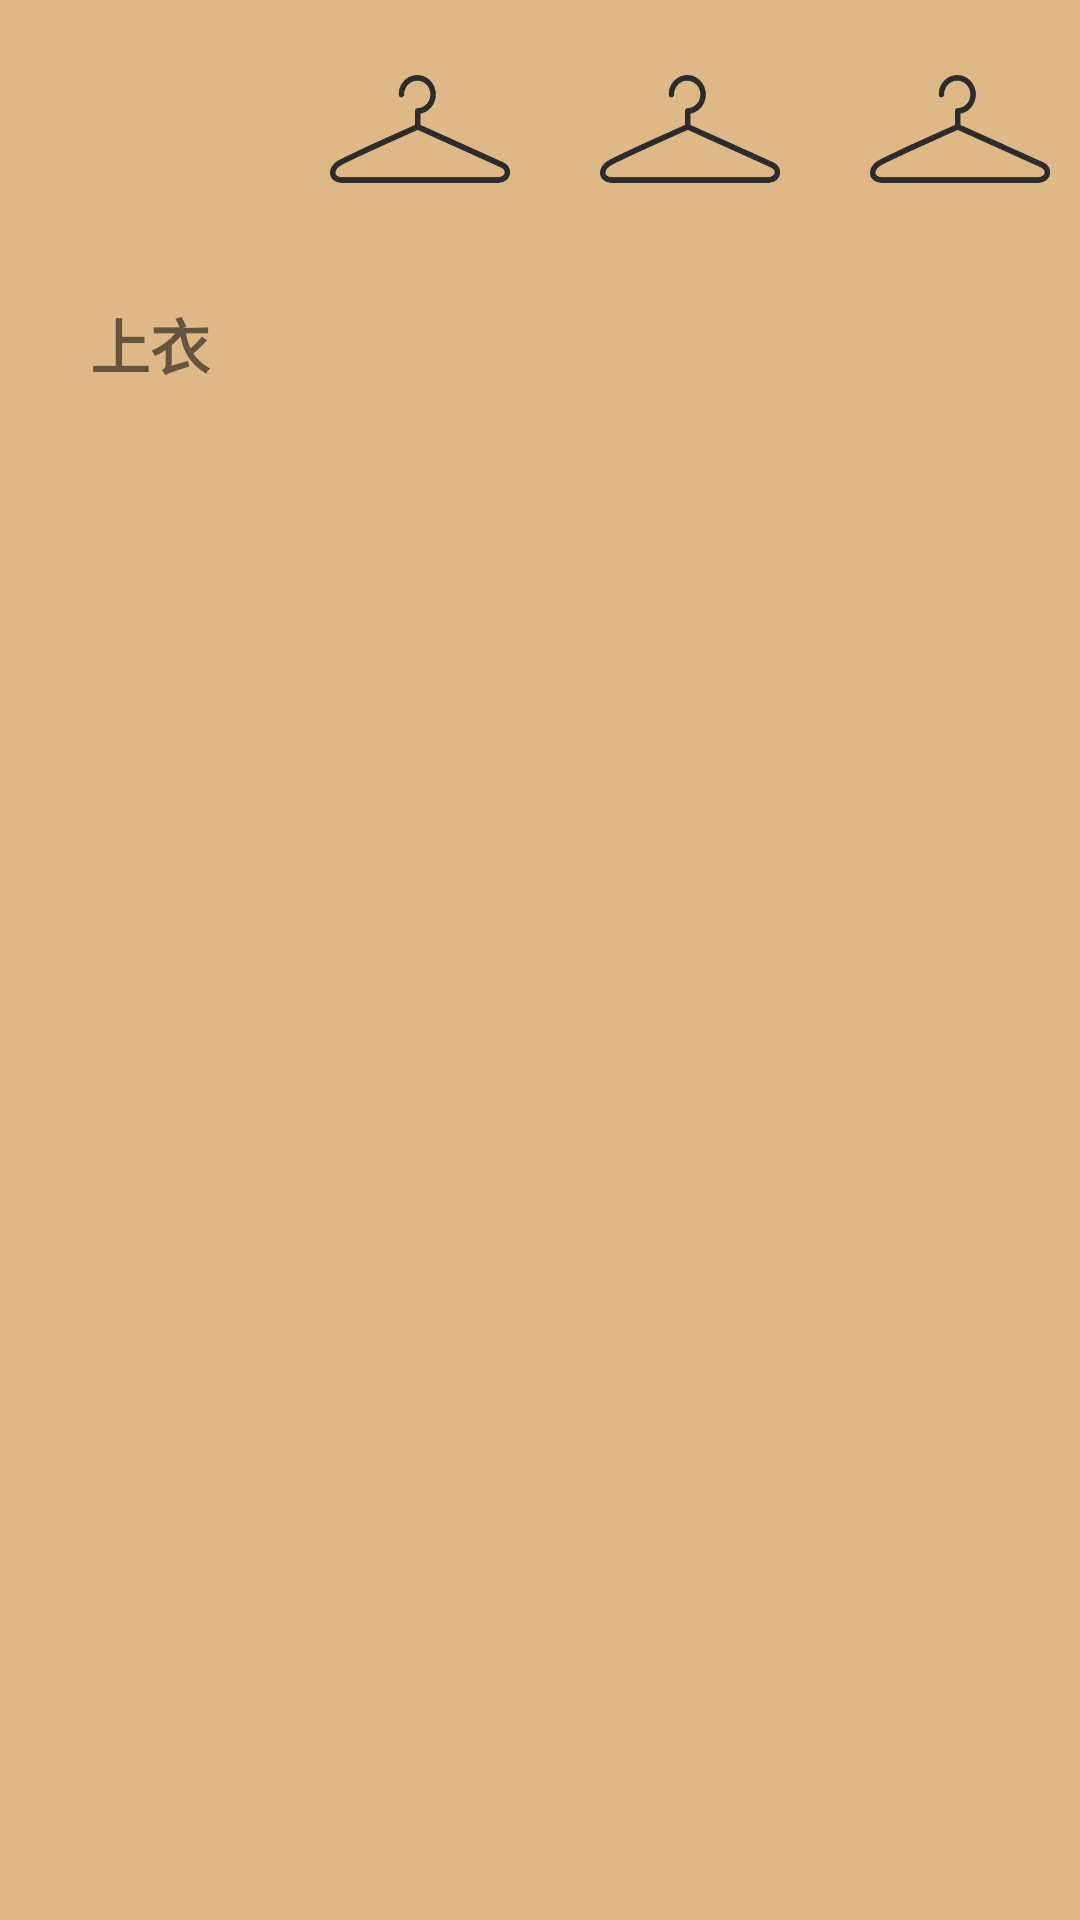

Screen size 1080×1920. Icon name, then its box in pixels as bbox=(x1, y1, x2, y2):
hanger: bbox=(330, 75, 510, 183), bbox=(600, 75, 780, 183), bbox=(870, 75, 1050, 183)
